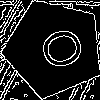O: (29, 23, 87, 78)
